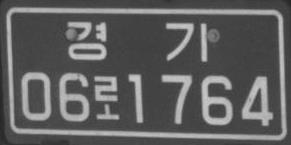0: (20, 70, 52, 122)
1: (122, 72, 151, 124)
4: (241, 74, 274, 127)
6: (199, 73, 234, 127), (57, 71, 90, 123)
7: (159, 72, 194, 126)
경기_D: (66, 20, 209, 64)
로: (92, 74, 120, 120)
